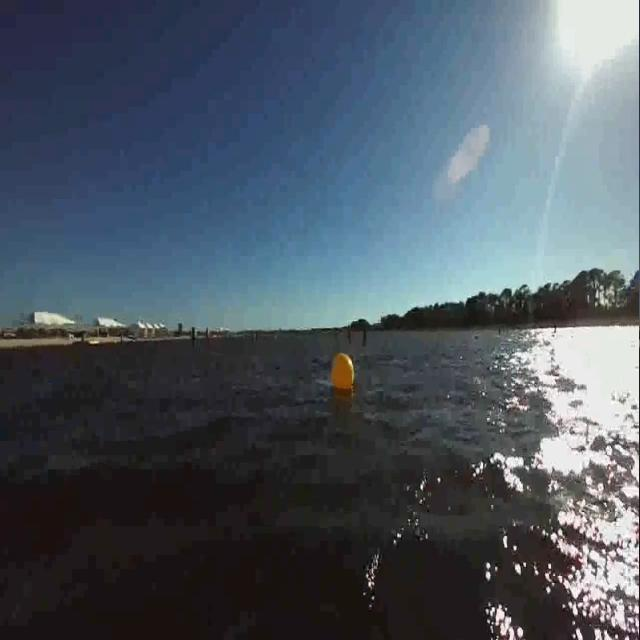yellow-buoy: (332, 350, 355, 390)
